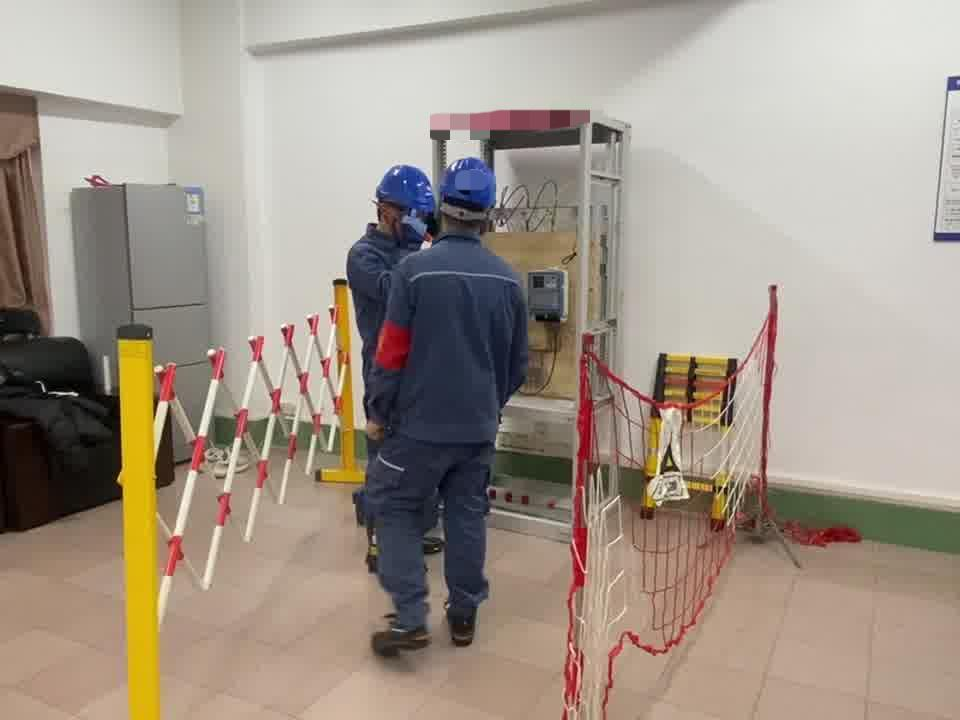halt: (373, 165, 439, 239), (440, 157, 501, 232)
